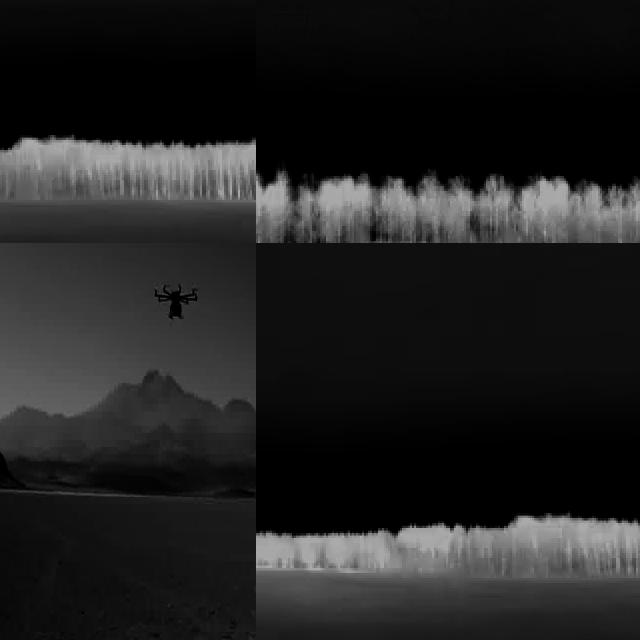drone: (152, 280, 198, 324)
